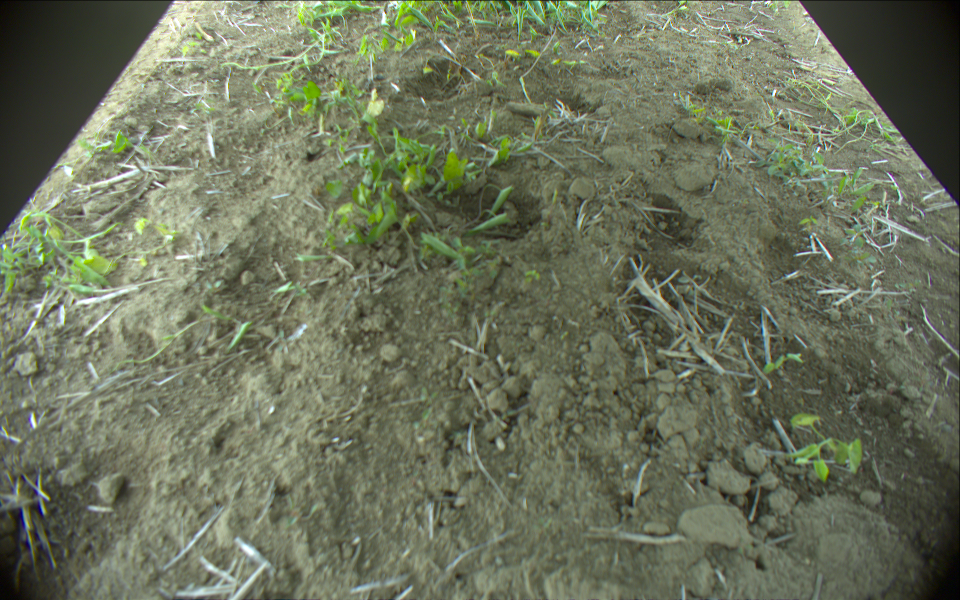aspa: (221, 35, 323, 70)
